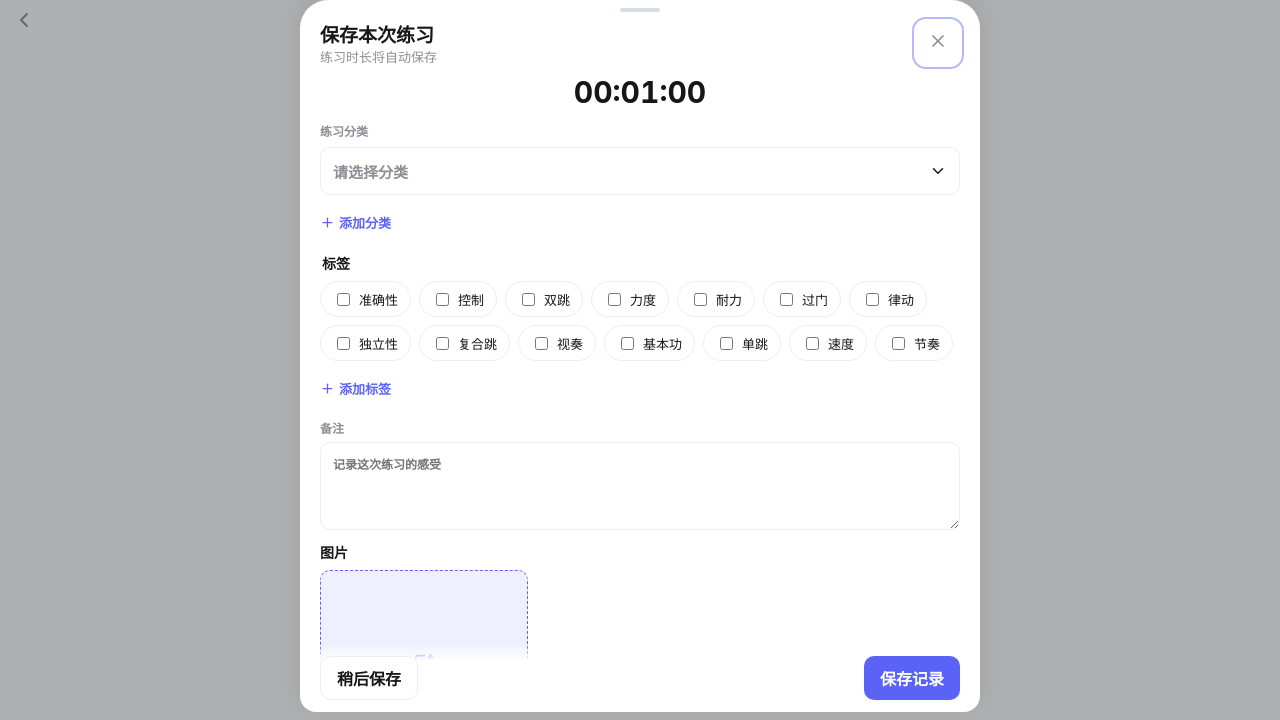
Test: TimerPage › requires a category and exposes optional tags and note
Expected: the heading "保存本次练习" is shown, x1=320 y1=20 x2=437 y2=47
Expected: the button "保存记录" is disabled, x1=864 y1=656 x2=960 y2=700
Click the button with aria-label "选择练习分类" at (371, 172), box x1=320 y1=147 x2=960 y2=195
(page scrolled)
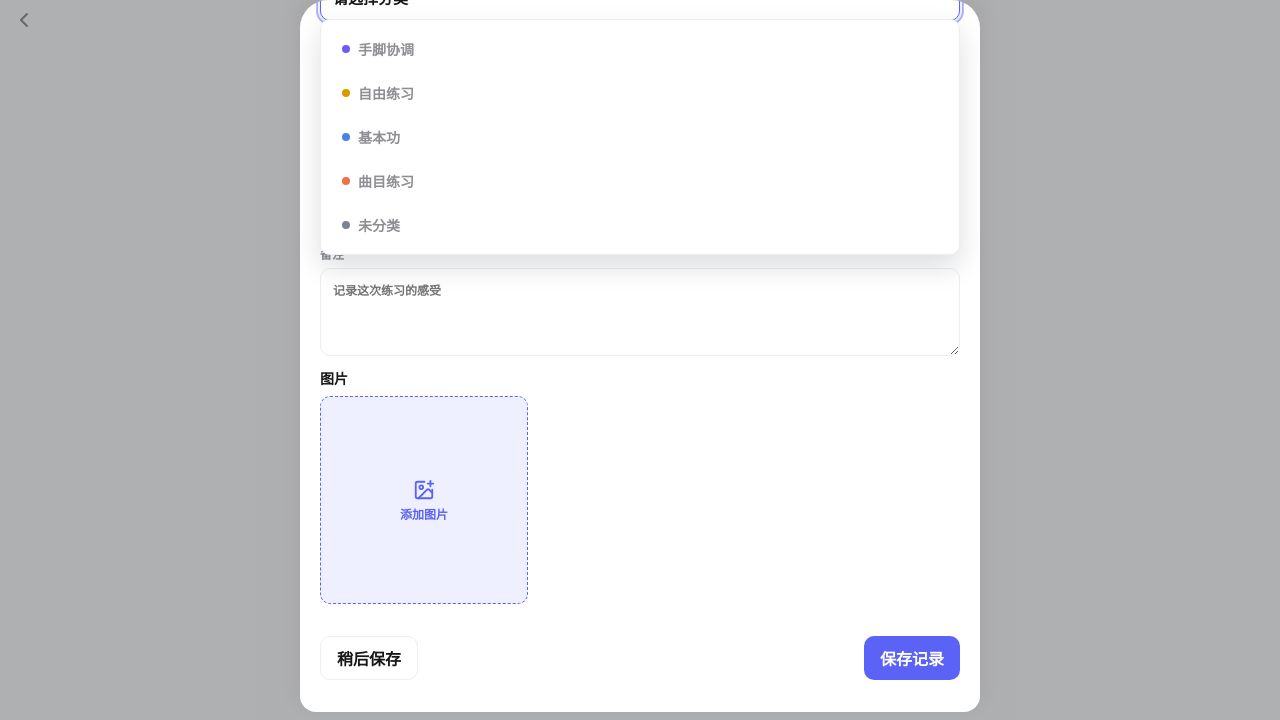
Expected: the text box labelled "备注" is shown, x1=320 y1=268 x2=960 y2=356
Expected: the option "基本功" is shown, x1=329 y1=116 x2=951 y2=158
